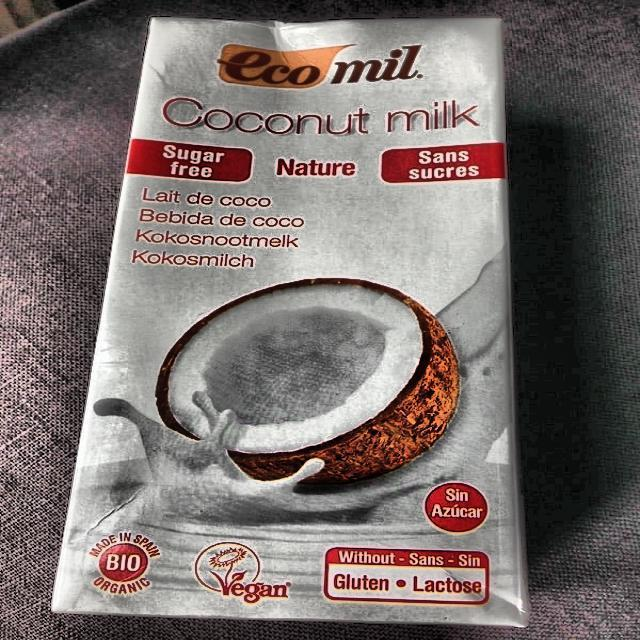cardboard: (50, 14, 530, 626)
